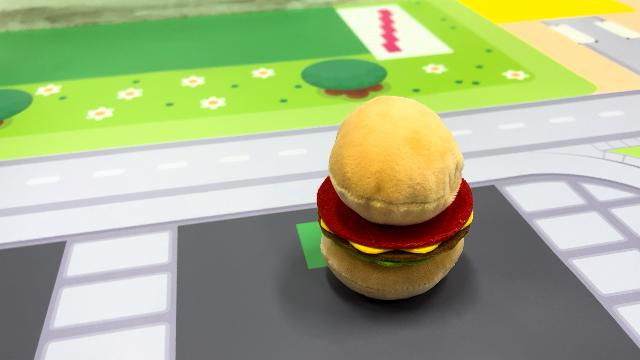burger: (312, 92, 478, 303)
